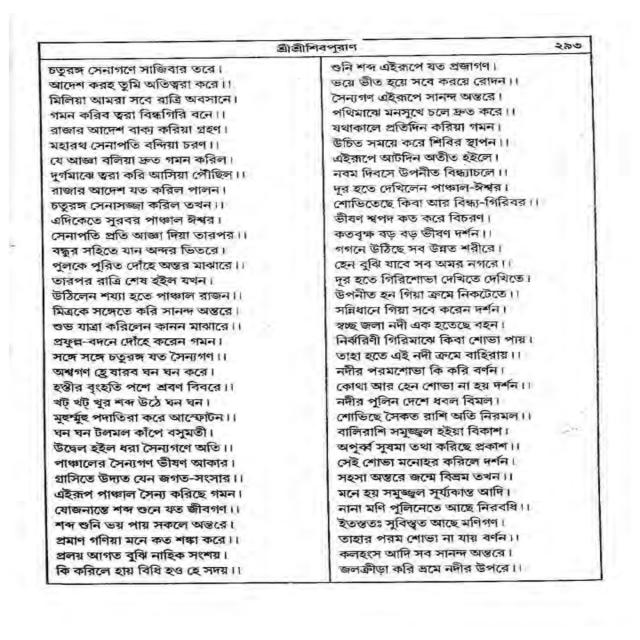page number: (551, 39, 587, 53)
paragraph: (320, 58, 546, 584), (43, 49, 256, 591)
title: (270, 40, 362, 56)
